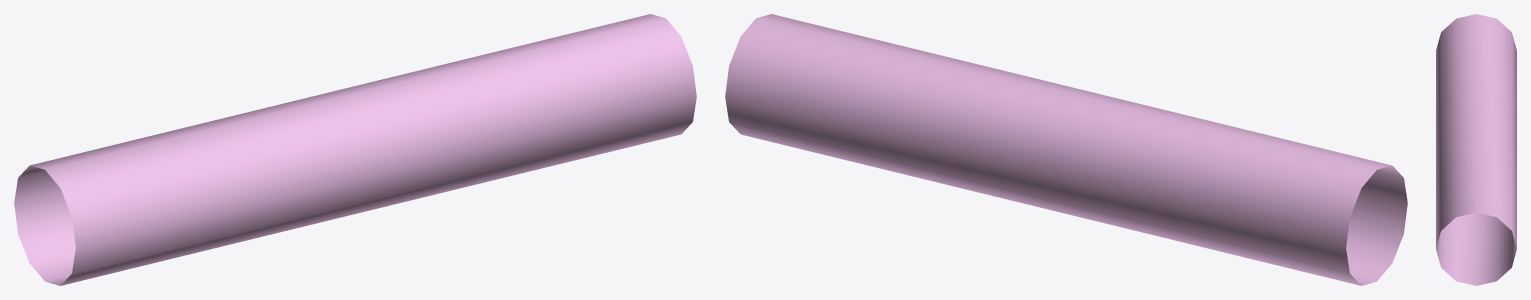
File: pipe02_straight01_long.fbx
3 renders of one model, left to right at view 1: azimuth 30°, elevation 25°; view 2: azimuth 150°, elevation 25°; view 3: azimuth 270°, elevation 25°, orthographic. The views are drawn at different scales.
Parts seen in each view (by area): view 1: pipe02_straight01_long_reference; view 2: pipe02_straight01_long_reference; view 3: pipe02_straight01_long_reference.
Part boxes in pixels (<box>): pipe02_straight01_long_reference: <box>14,14,696,285</box>; pipe02_straight01_long_reference: <box>725,14,1407,285</box>; pipe02_straight01_long_reference: <box>1436,14,1516,285</box>.
Bounding box in the file's own units: 4796 × 826 × 826.
